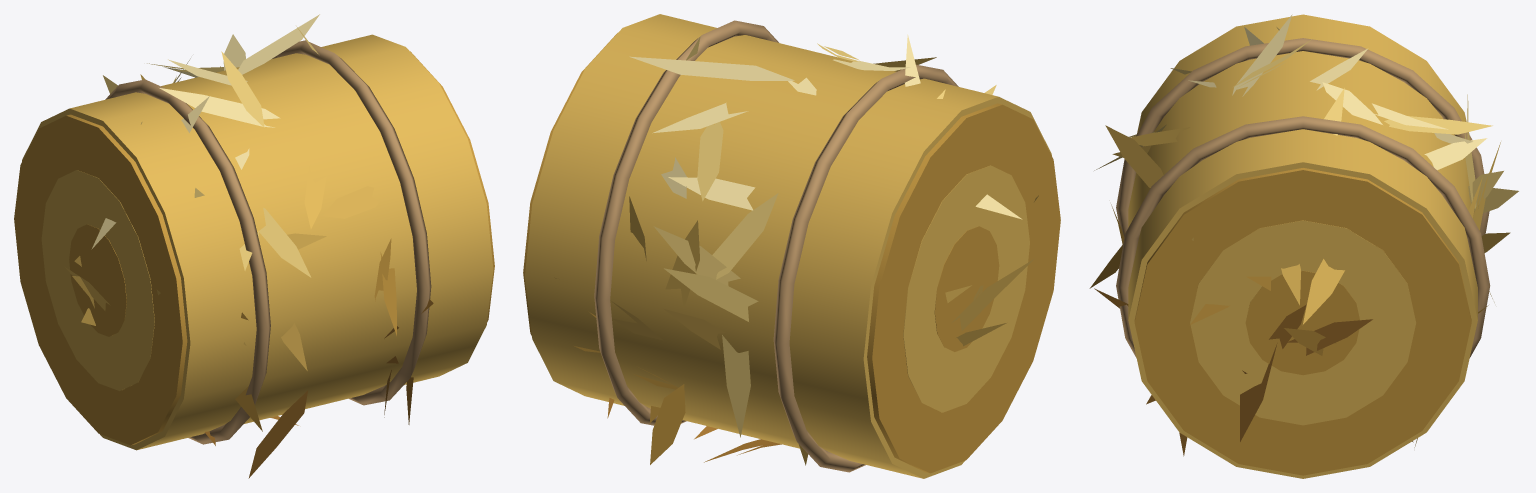
Rendered from HayBale.glb.
3 renders of one model, left to right at view 1: azimuth 30°, elevation 25°; view 2: azimuth 150°, elevation 25°; view 3: azimuth 270°, elevation 25°, orthographic. The views are drawn at different scales.
Visible parts, largest first — view 1: Body, Rustle; view 2: Body, Rustle; view 3: Body, Rustle.
Boxes of the visible parts, left/top/right/bottom form: Body: left=14, top=34, right=494, bottom=450; Rustle: left=64, top=14, right=433, bottom=478; Body: left=523, top=14, right=1060, bottom=478; Rustle: left=554, top=34, right=1038, bottom=465; Body: left=1116, top=14, right=1490, bottom=478; Rustle: left=1089, top=14, right=1518, bottom=456.
Bounding box in the file's own units: 2.29 × 2.14 × 2.1.
Materials: 2 (2 with a texture image).
